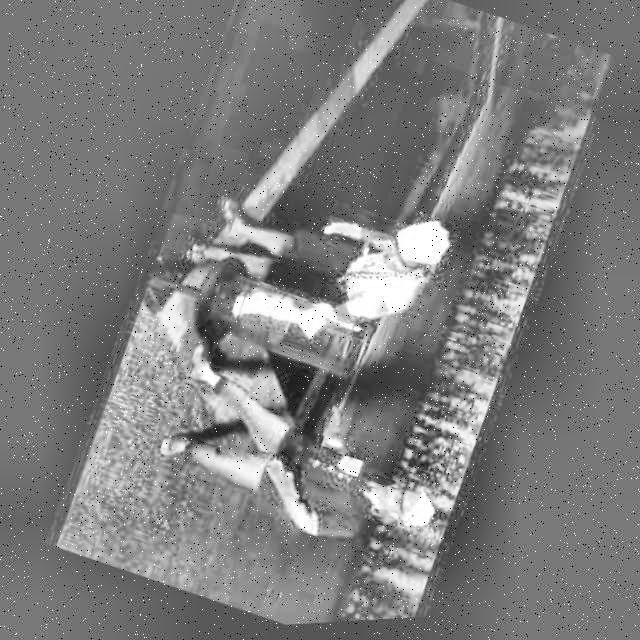Fire: (229, 279, 354, 363)
